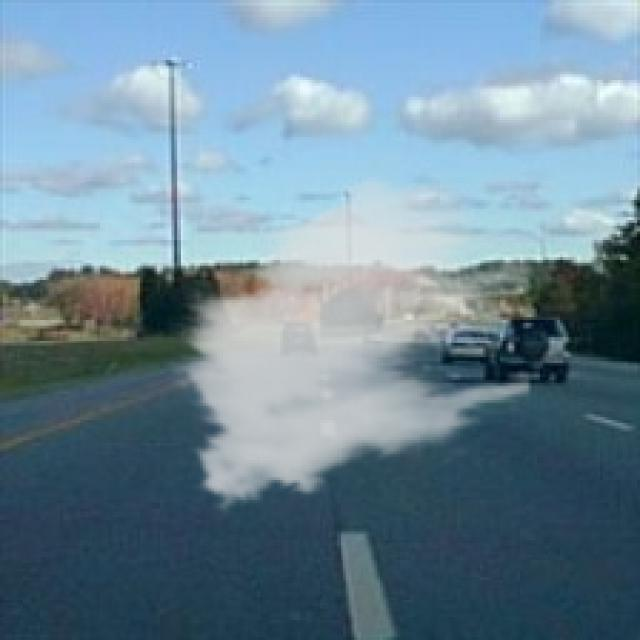smoke: (168, 166, 532, 520)
